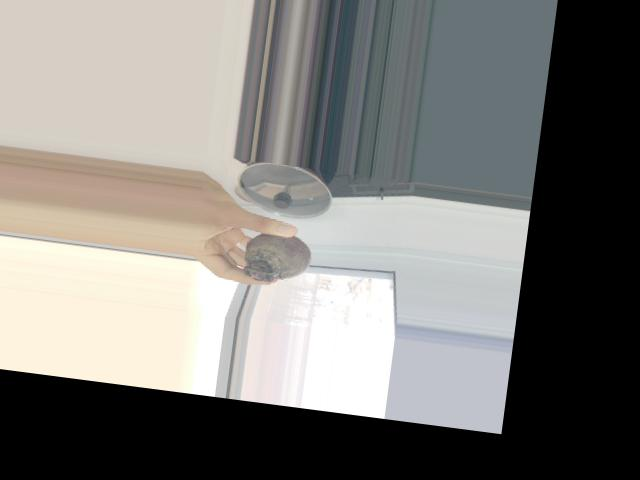beet: (223, 226, 314, 287)
